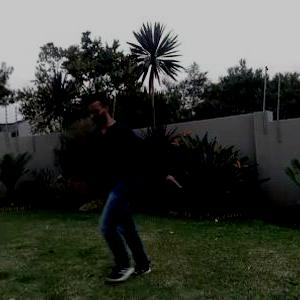land: (42, 76, 208, 289)
